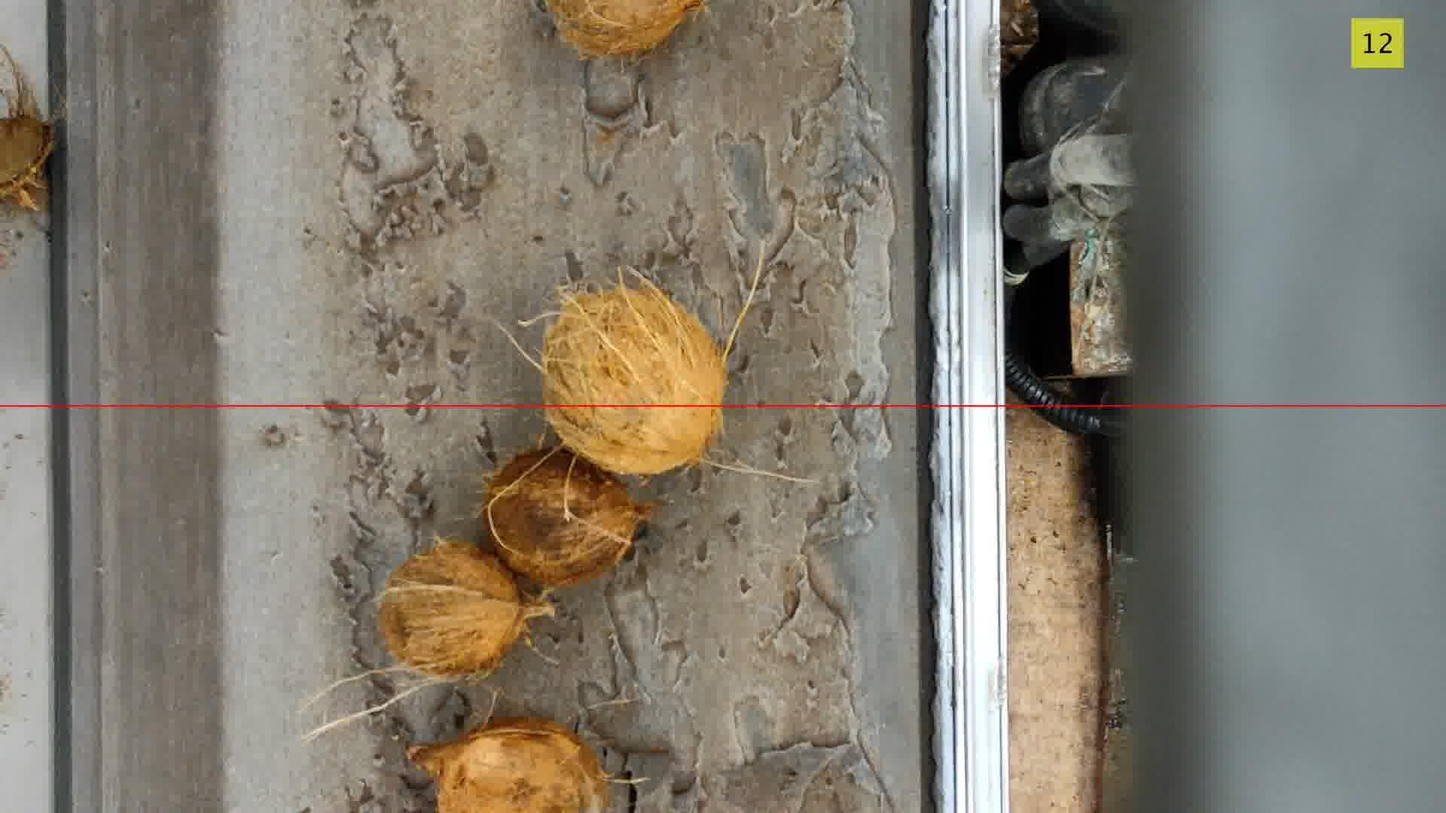Coconut: (545, 285, 726, 474), (378, 540, 551, 676), (484, 447, 647, 586), (409, 717, 609, 812), (0, 47, 54, 210), (548, 0, 702, 56)
